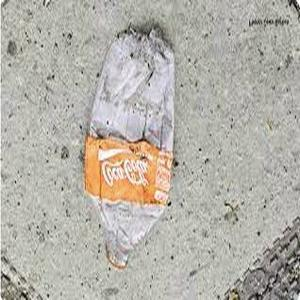Plastic: (83, 26, 174, 270)
